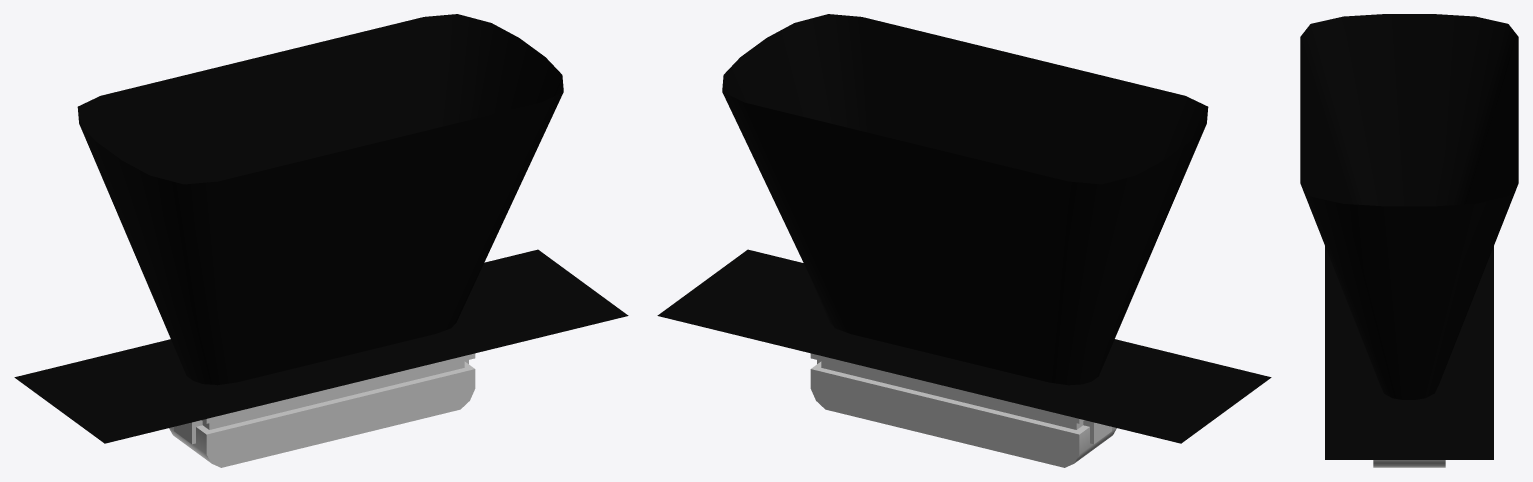
File: obj_warehouse_doorframelight_on.fbx
3 renders of one model, left to right at view 1: azimuth 30°, elevation 25°; view 2: azimuth 150°, elevation 25°; view 3: azimuth 270°, elevation 25°, orthographic. The views are drawn at different scales.
Parts seen in each view (by area): view 1: polySurface4; view 2: polySurface4; view 3: polySurface4.
Boxes of the visible parts, <box> form: polySurface4: <box>14,14,628,467</box>; polySurface4: <box>657,14,1271,467</box>; polySurface4: <box>1300,14,1518,467</box>.
Size of the model in its own units: 7.8 by 4.63 by 3.02.
